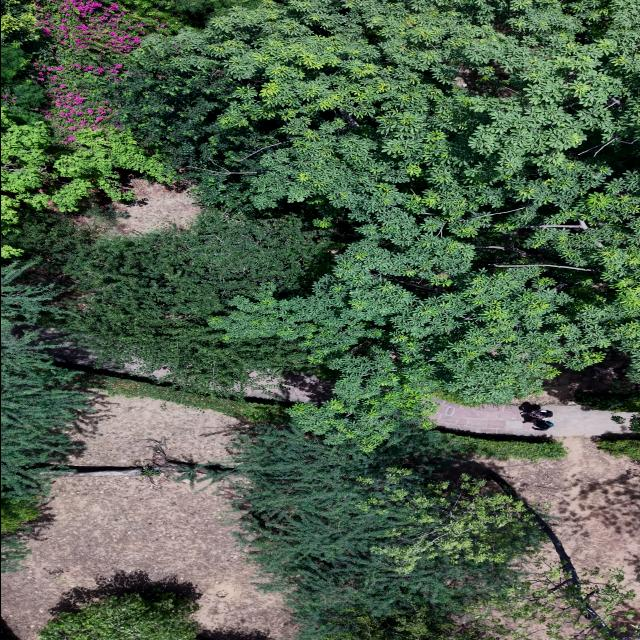DRY_AREA: (1, 476, 294, 639), (1, 476, 293, 639), (478, 436, 639, 607), (436, 349, 632, 433), (434, 352, 631, 435), (530, 366, 631, 435), (77, 178, 200, 234), (519, 348, 636, 404), (116, 179, 200, 233), (433, 400, 542, 434)
VEGETATION_TREE: (1, 0, 639, 639), (36, 0, 639, 447), (149, 0, 639, 448), (1, 2, 175, 571), (229, 424, 630, 639), (1, 332, 283, 571), (10, 191, 336, 393), (231, 424, 542, 630), (17, 213, 333, 392), (1, 2, 174, 232), (35, 0, 227, 175), (1, 429, 236, 571), (102, 47, 284, 207), (1, 262, 87, 572), (462, 501, 639, 639), (1, 107, 173, 232), (35, 0, 177, 143), (358, 467, 538, 573), (1, 332, 87, 500), (462, 563, 639, 639), (77, 372, 286, 420), (39, 591, 197, 639), (39, 0, 150, 52), (315, 608, 481, 639), (1, 1, 44, 107), (575, 391, 639, 461), (428, 429, 566, 459), (572, 380, 639, 432), (1, 496, 39, 572), (158, 0, 232, 23), (574, 390, 639, 412), (1, 497, 39, 530), (593, 433, 639, 460), (1, 530, 28, 572), (629, 413, 639, 432)
